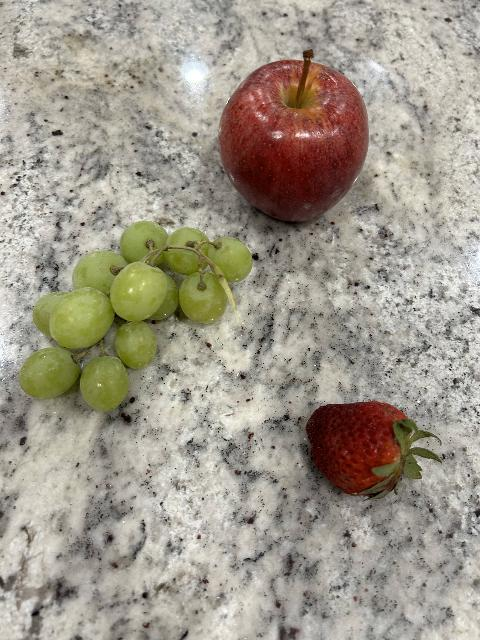Apples: (219, 48, 369, 224)
Grapes: (14, 221, 252, 413)
Strawberries: (306, 398, 444, 502)
